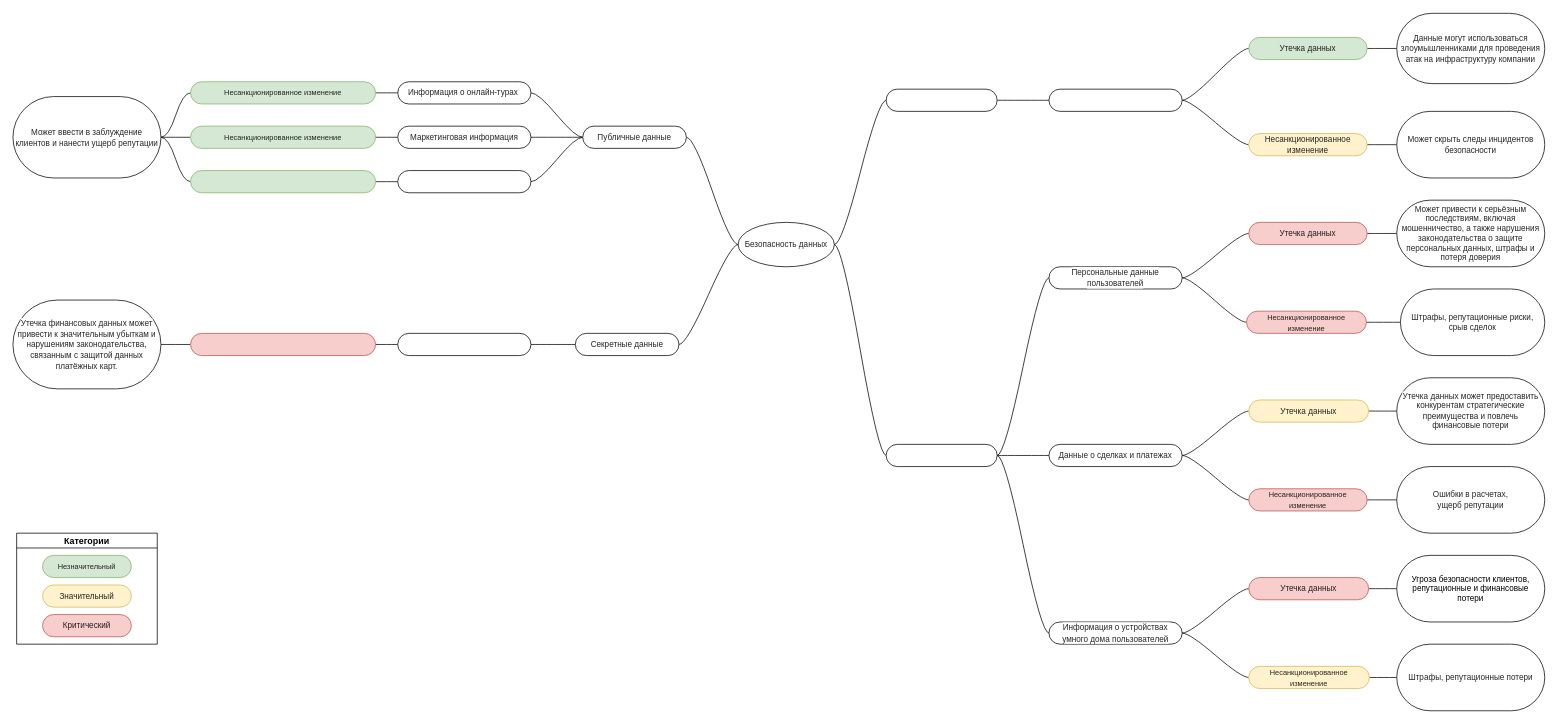
The diagram is 1558 pixels wide and 724 high, and some of its shapes have lost their labels. Each missing label, with the centre of its shape:
Внутренние данные: the point at 941,99
Информация о недвижимости из фонда PropDevelopment: the point at 464,181
Конфиденциальные данные: the point at 941,455
Несанкционированное изменение цен или характеристик: the point at 283,181
Платежные данные: the point at 464,344
Системные и технические данные: the point at 1115,99
Утечка, нарушение целостности данных: the point at 283,344
